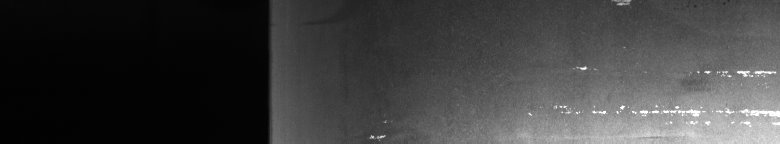kb: (528, 4, 776, 127)
